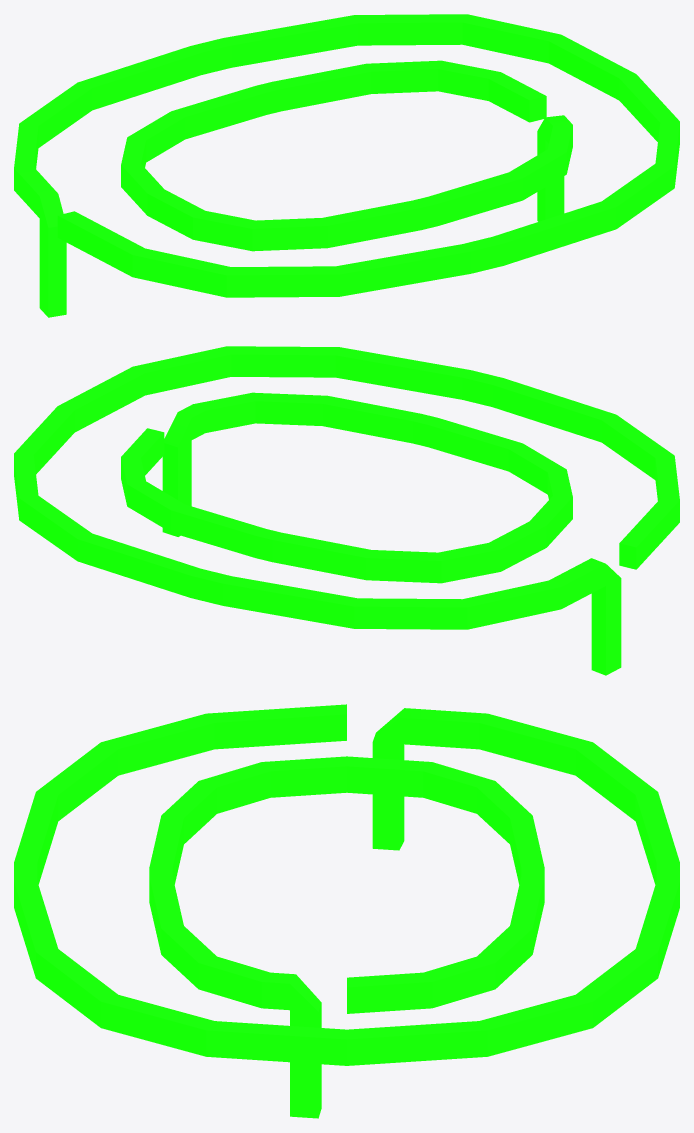
Rendered from Alphabet_3D_04_O.FBX.
The picture shows the model from 3 angles, top to bottom: view 1: azimuth 30°, elevation 25°; view 2: azimuth 150°, elevation 25°; view 3: azimuth 270°, elevation 25°; orthographic projection. The views are drawn at different scales.
Visible parts, largest first — view 1: Alphabet_3D_04_O; view 2: Alphabet_3D_04_O; view 3: Alphabet_3D_04_O.
Boxes of the visible parts, box(x1,y1,x2,y2) form: Alphabet_3D_04_O: box(14, 14, 679, 317); Alphabet_3D_04_O: box(14, 346, 679, 675); Alphabet_3D_04_O: box(14, 704, 679, 1118).
Size of the model in its own units: 68.32 by 12.63 by 57.39.
